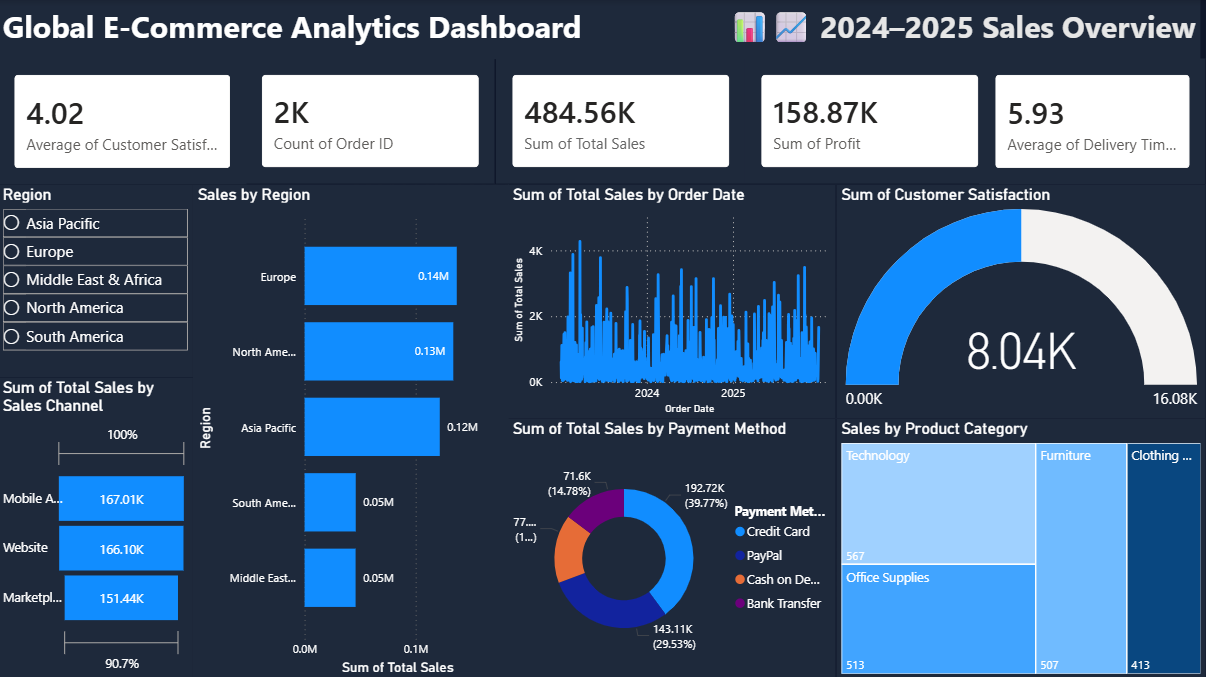

The dashboard page shown, as its layout file describes it:
{"tool":"powerbi","page":{"name":"Page 1","canvas":[1280,720],"ordinal":0},"visuals":[{"type":"donutChart","title":"Sum of Total Sales by Payment Method","fields":{"Category":["global_ecommerce_sales_extended.Payment_Method"],"Y":["Sum(global_ecommerce_sales_extended.Total_Sales)"]},"box":[541.5,444.3,347.2,275.6],"z":0},{"type":"lineChart","fields":{"Y":["Sum(global_ecommerce_sales_extended.Total_Sales)"],"Category":["global_ecommerce_sales_extended.Order_Date"]},"box":[541.5,196.1,347.2,248.2],"z":1000},{"type":"clusteredBarChart","title":"Sales by Region","fields":{"Category":["global_ecommerce_sales_extended.Region"],"Y":["Sum(global_ecommerce_sales_extended.Total_Sales)"]},"box":[206.7,196.1,334.8,523.8],"z":2000},{"type":"treemap","title":"Sales by Product Category","fields":{"Group":["global_ecommerce_sales_extended.Product_Category"],"Values":["CountNonNull(global_ecommerce_sales_extended.Total_Sales)"]},"box":[888.7,444.3,391.3,275.6],"z":3000},{"type":"listSlicer","fields":{"Values":["global_ecommerce_sales_extended.Region"]},"box":[0,196.1,206.7,204.9],"z":4000},{"type":"cardVisual","fields":{"Data":["Sum(global_ecommerce_sales_extended.Total_Sales)"]},"box":[527.4,62.7,264.1,132.5],"z":5000},{"type":"cardVisual","fields":{"Data":["Sum(global_ecommerce_sales_extended.Profit)"]},"box":[791.5,62.7,264.1,132.5],"z":6000},{"type":"cardVisual","fields":{"Data":["CountNonNull(global_ecommerce_sales_extended.Order_ID)"]},"box":[263.2,62.7,264.1,132.5],"z":7000},{"type":"cardVisual","fields":{"Data":["Avg(global_ecommerce_sales_extended.Customer_Satisfaction)"]},"box":[0,62.7,263.2,133.4],"z":8000},{"type":"cardVisual","fields":{"Data":["Avg(global_ecommerce_sales_extended.Delivery_Time_Days)"]},"box":[1039.7,62.7,240.3,133.4],"z":9000},{"type":"textbox","box":[0,0,690.8,62.7],"z":10000},{"type":"gauge","title":"Sum of Customer Satisfaction","fields":{"Y":["Sum(global_ecommerce_sales_extended.Customer_Satisfaction)"]},"box":[888.7,196.1,391.3,248.2],"z":11000},{"type":"funnel","title":"Sum of Total Sales by Sales Channel","fields":{"Category":["global_ecommerce_sales_extended.Sales_Channel"],"Y":["Sum(global_ecommerce_sales_extended.Total_Sales)"]},"box":[0,401,206.7,318.9],"z":11001},{"type":"textbox","box":[640.4,0,634.3,62.7],"z":11002}]}

Visuals, with their boxes in screenshot pixels (x1, y1, x2, y2), scaled from the page's 1280x720 canvas onto the 1206x677 screenshot:
"Sum of Total Sales by Payment Method" donutChart: region(510, 418, 837, 676)
lineChart - Sum(global_ecommerce_sales_extended.Total_Sales) x global_ecommerce_sales_extended.Order_Date: region(510, 184, 837, 418)
"Sales by Region" clusteredBarChart: region(195, 184, 510, 676)
"Sales by Product Category" treemap: region(837, 418, 1205, 676)
listSlicer - global_ecommerce_sales_extended.Region: region(0, 184, 195, 377)
cardVisual - Sum(global_ecommerce_sales_extended.Total_Sales): region(497, 59, 746, 184)
cardVisual - Sum(global_ecommerce_sales_extended.Profit): region(746, 59, 995, 184)
cardVisual - CountNonNull(global_ecommerce_sales_extended.Order_ID): region(248, 59, 497, 184)
cardVisual - Avg(global_ecommerce_sales_extended.Customer_Satisfaction): region(0, 59, 248, 184)
cardVisual - Avg(global_ecommerce_sales_extended.Delivery_Time_Days): region(980, 59, 1205, 184)
textbox: region(0, 0, 651, 59)
"Sum of Customer Satisfaction" gauge: region(837, 184, 1205, 418)
"Sum of Total Sales by Sales Channel" funnel: region(0, 377, 195, 676)
textbox: region(603, 0, 1201, 59)
